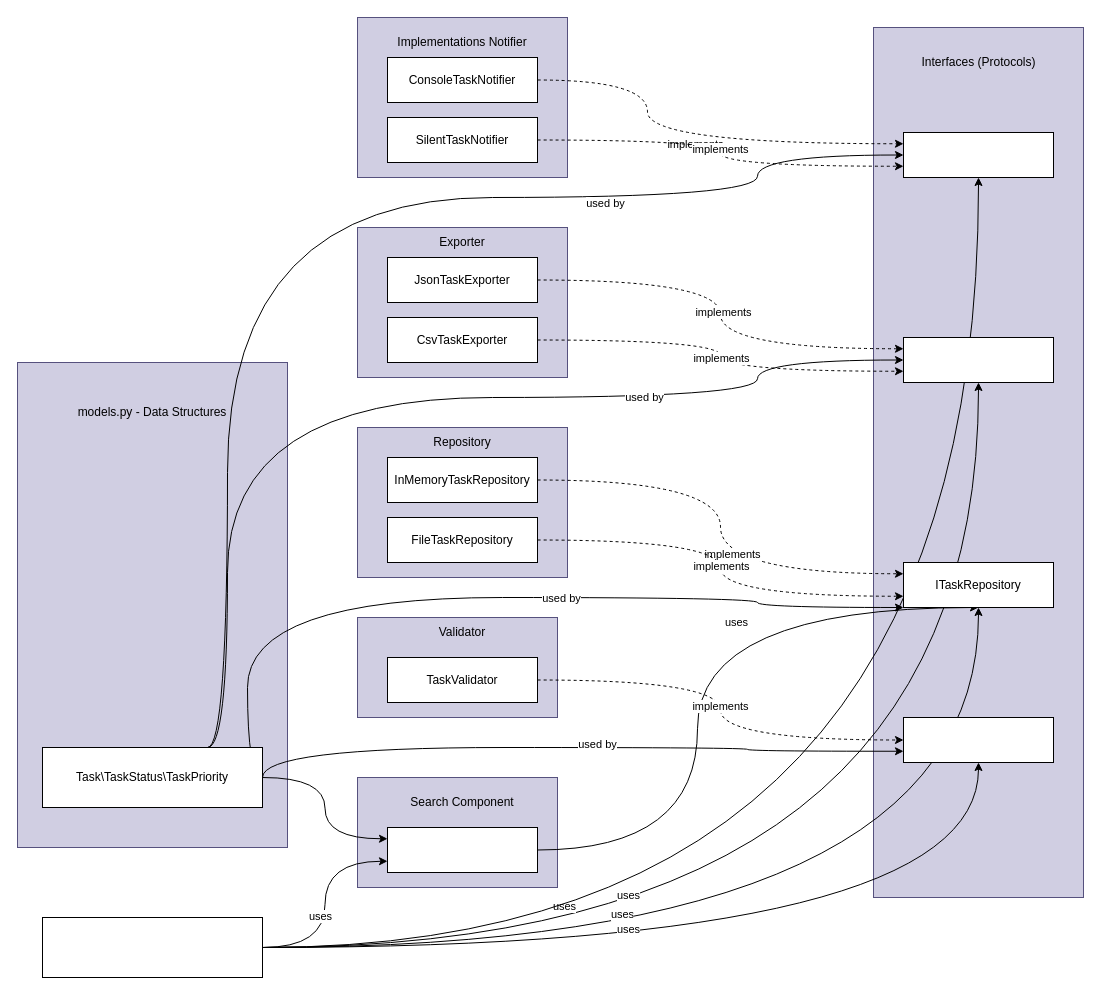
Some shapes in this 1101 by 995 pixel diagram are drawn without their labels. Here are the shapes that lost their labels. From the top down, the centre of each, then its label:
At point 978,155: "ITaskNotifier".
At point 978,359: "ITaskExporter".
At point 978,739: "ITaskValidator".
At point 462,849: "TaskSearch".
At point 152,947: "TaskManager\Orchestrator".
